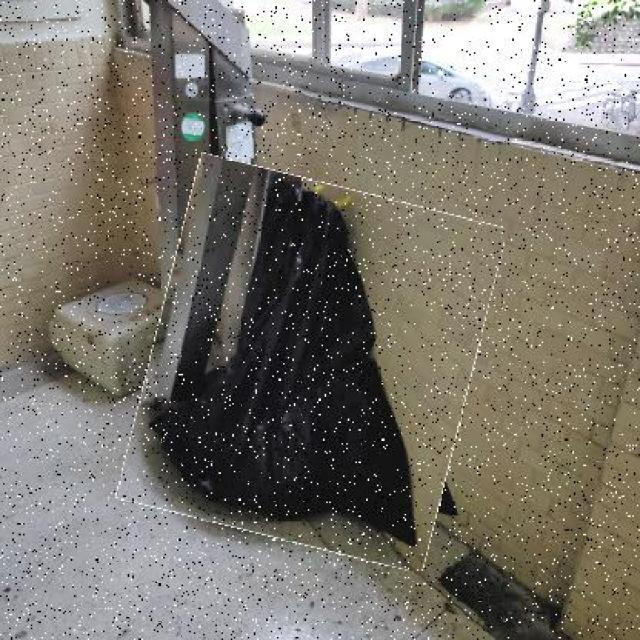waste: (134, 168, 488, 556)
